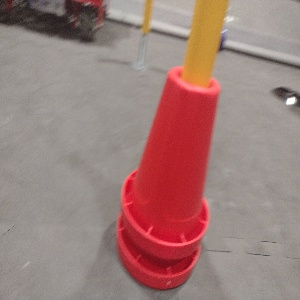Red_2: (105, 66, 222, 289)
